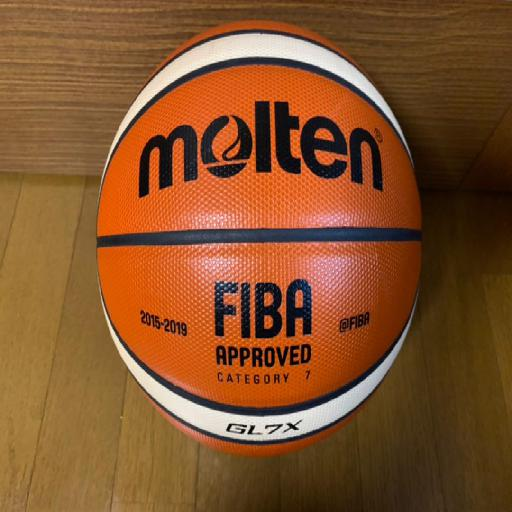ball: (95, 22, 420, 457)
